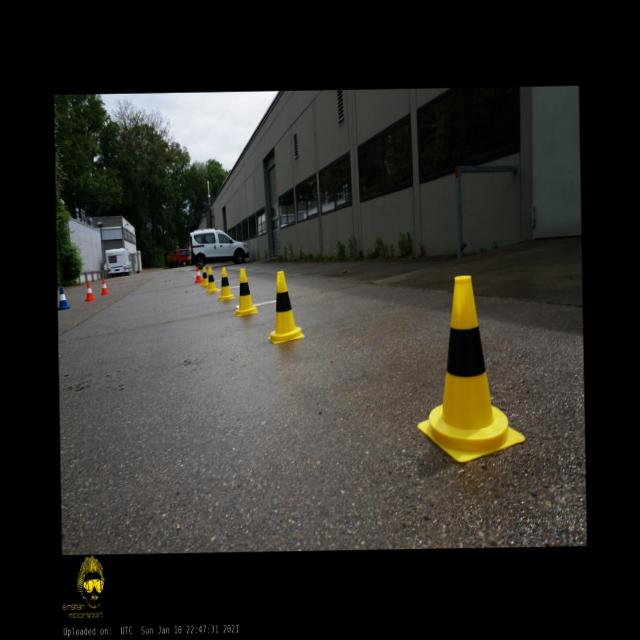blue_cone: (57, 286, 70, 310)
orange_cone: (84, 280, 95, 300), (99, 279, 108, 295), (194, 266, 202, 282)
yellow_cone: (415, 274, 526, 464), (266, 270, 305, 344), (233, 268, 257, 316), (217, 266, 234, 302), (206, 266, 218, 294), (200, 265, 208, 287)
